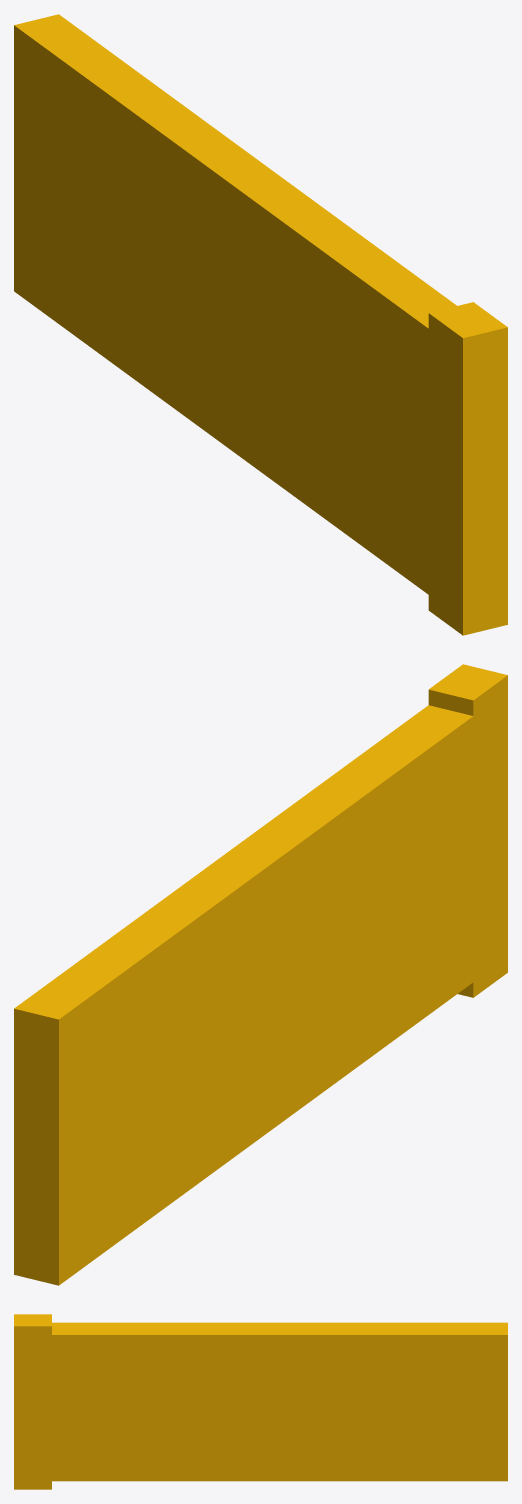
Rendered from original-48.obj.
3 renders of one model, top to bottom at view 1: azimuth 30°, elevation 25°; view 2: azimuth 150°, elevation 25°; view 3: azimuth 270°, elevation 25°, orthographic. The views are drawn at different scales.
Visible parts, largest first — view 1: Group48/mesh71/mesh71-geometry#mesh71-geometry; view 2: Group48/mesh71/mesh71-geometry#mesh71-geometry; view 3: Group48/mesh71/mesh71-geometry#mesh71-geometry.
Part boxes in pixels (x1,y1,x2,y2): Group48/mesh71/mesh71-geometry#mesh71-geometry: (14,14,507,635); Group48/mesh71/mesh71-geometry#mesh71-geometry: (14,664,507,1285); Group48/mesh71/mesh71-geometry#mesh71-geometry: (14,1314,507,1489).
Bounding box in the file's own units: 0.0148 × 0.0936 × 0.2561.
